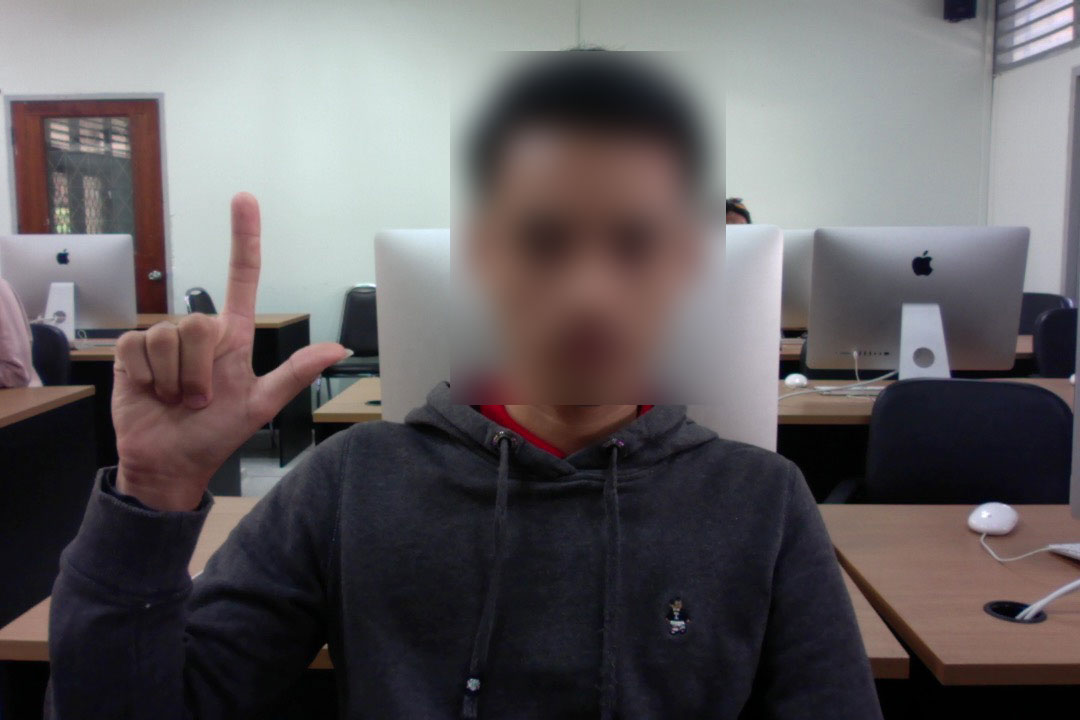lor: (76, 191, 366, 505)
